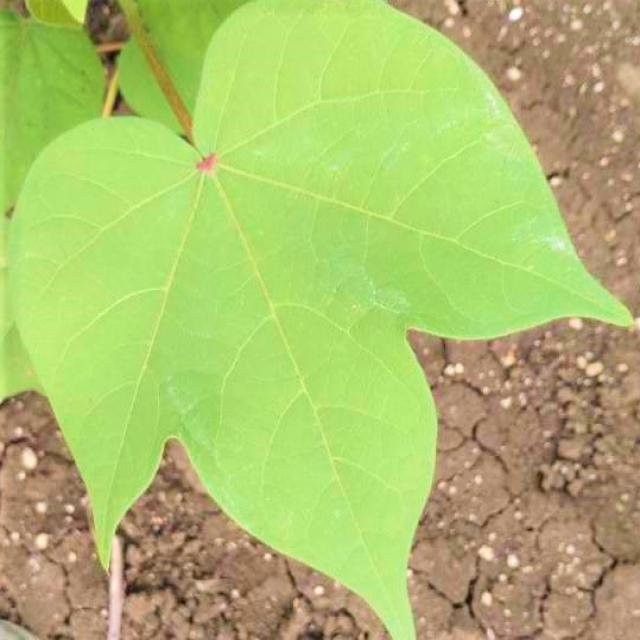Healthy Leaf: (31, 1, 489, 454)
